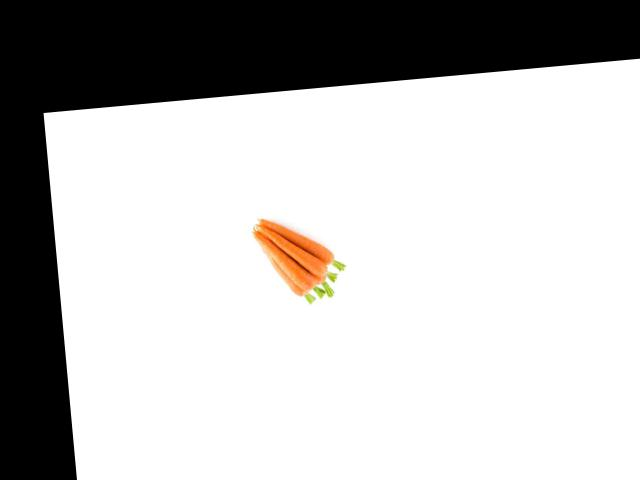carrot: (260, 205, 339, 269)
